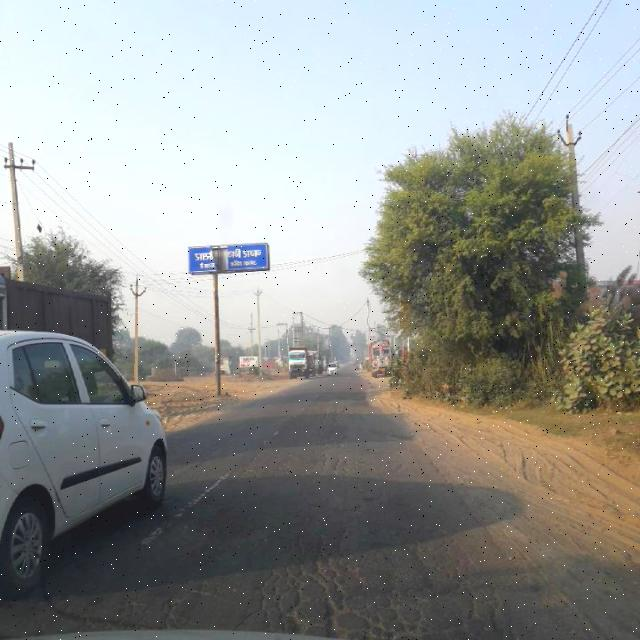D20: (142, 492, 526, 634)
D44: (144, 456, 232, 548)
